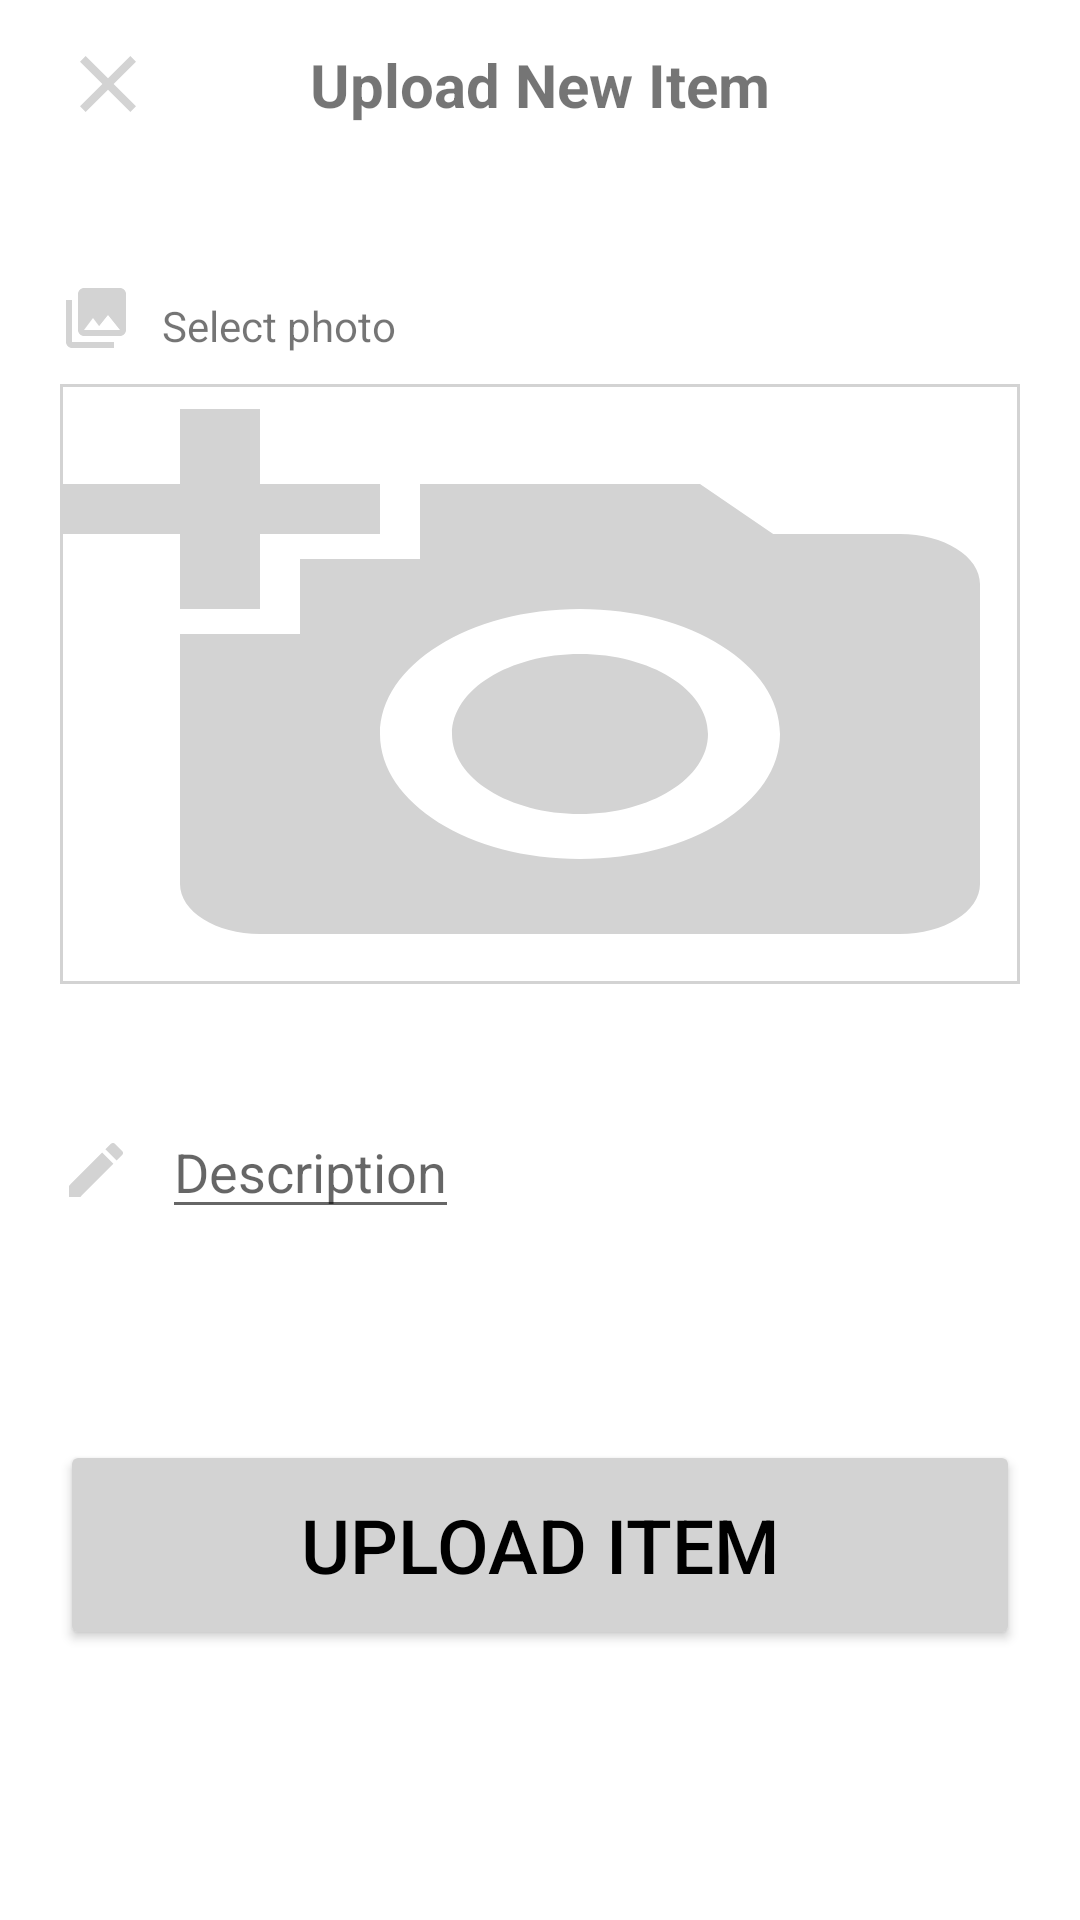

Named icons in this screenshot (1080x1920) and their centers, [x,y]:
close: [108,84]
create: [96,1170]
photo library: [96,318]
